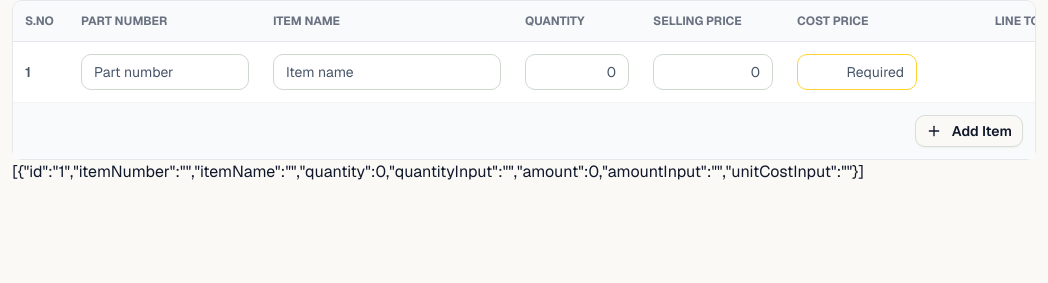
InvoiceItemsEditor › supports arrow-key navigation inside suggestions
The image size is (1048, 283).
Step 1. Type "BP" into the field named "Row 1 part number" → (165, 72), box [81,54,249,90]
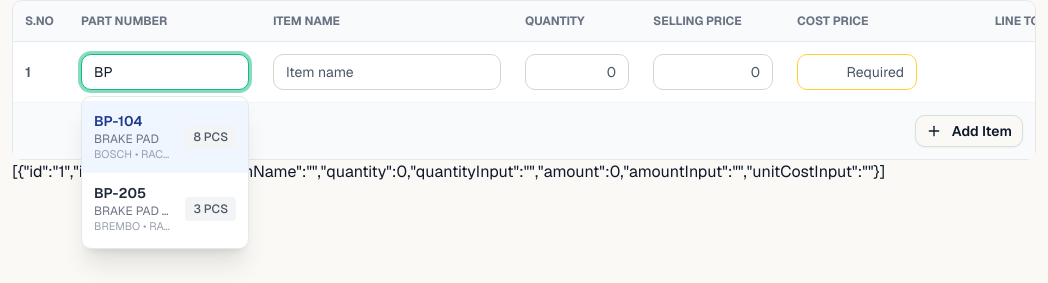
Check: the text "BP-205" is shown, box [94,184,146,202]
Step 2. Press Arrowdown Enter
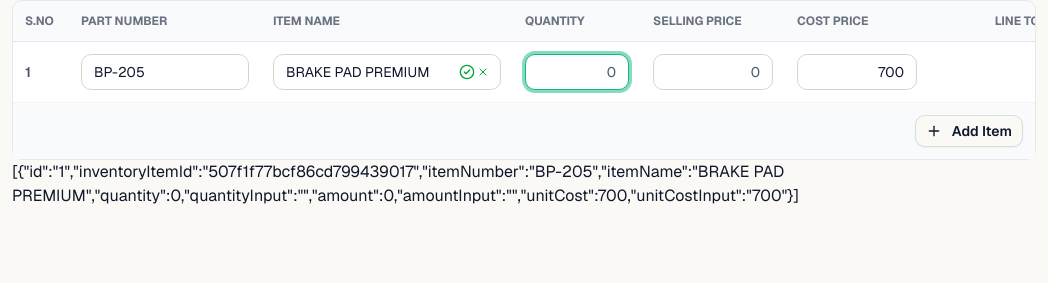
Check: the field named "Row 1 item name" holds "BRAKE PAD PREMIUM", box [273,54,501,90]
